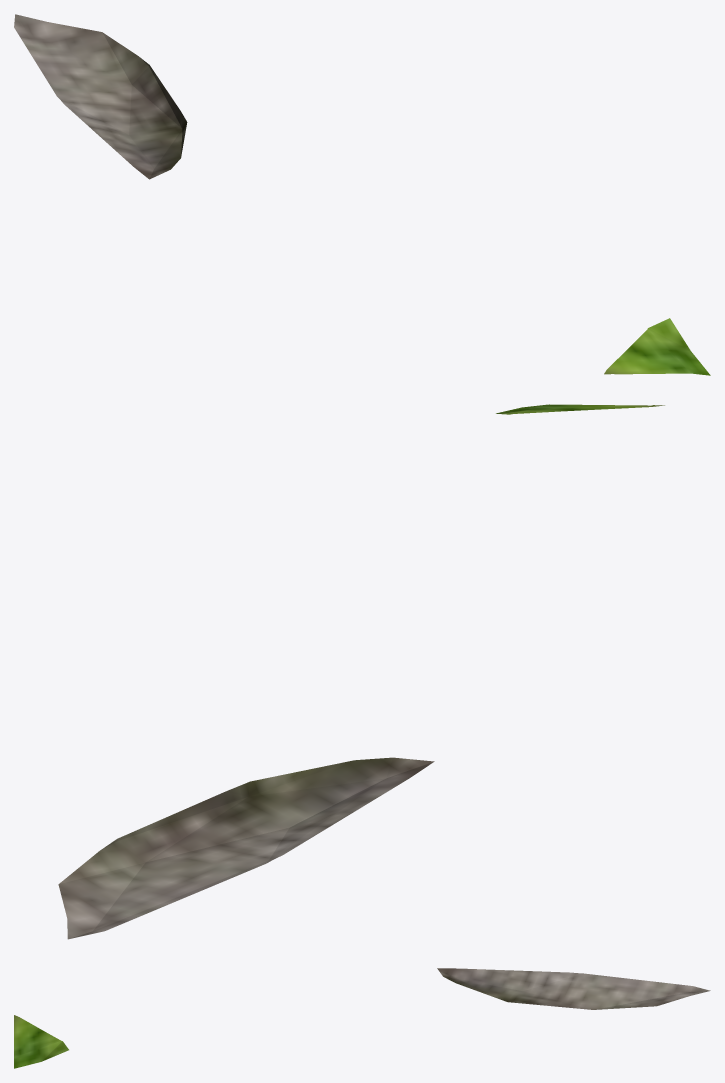
3 views of the same model, one above another, from view 1: azimuth 30°, elevation 25°; view 2: azimuth 150°, elevation 25°; view 3: azimuth 270°, elevation 25° (orthographic). The views are drawn at different scales.
Bounding box in the file's own units: 1 × 0.1068 × 3.61.
1 material, 1 textured.
